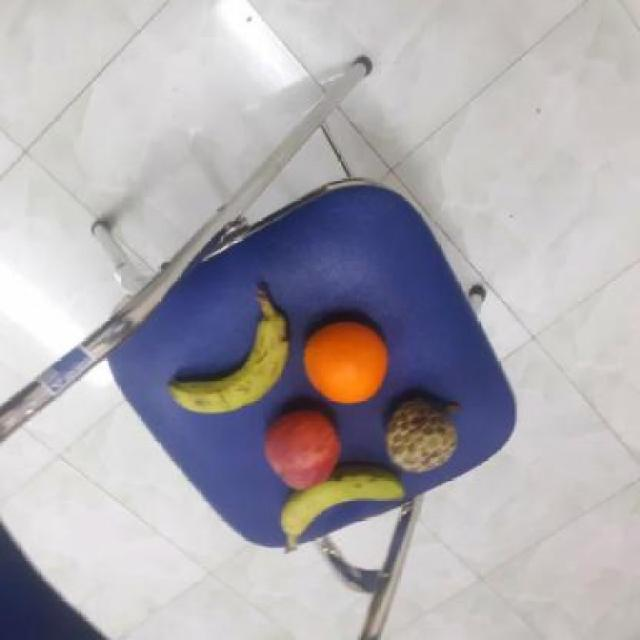apple: (262, 407, 347, 490)
banana: (163, 312, 294, 413), (278, 466, 414, 546)
oren: (301, 318, 388, 407)
sugar apple: (378, 398, 456, 478)
